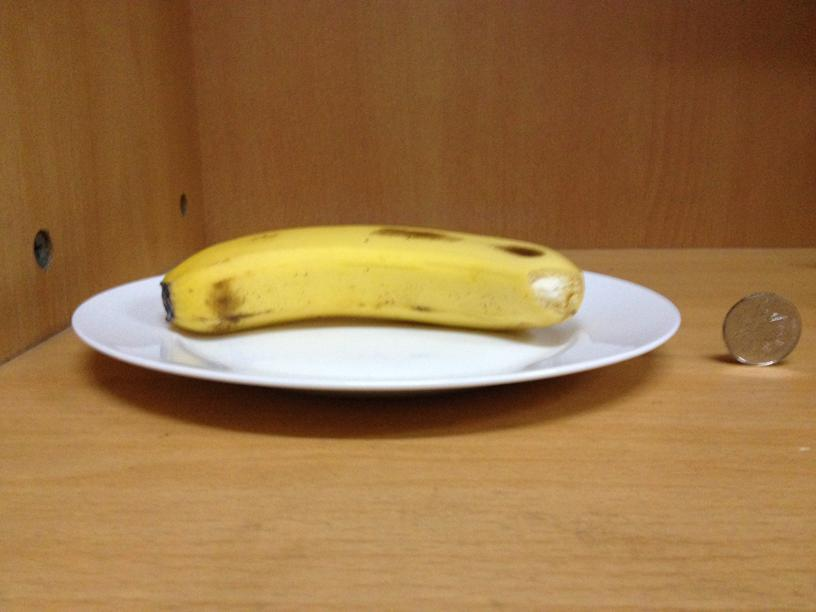banana: (157, 219, 586, 333)
coin: (719, 288, 802, 368)
